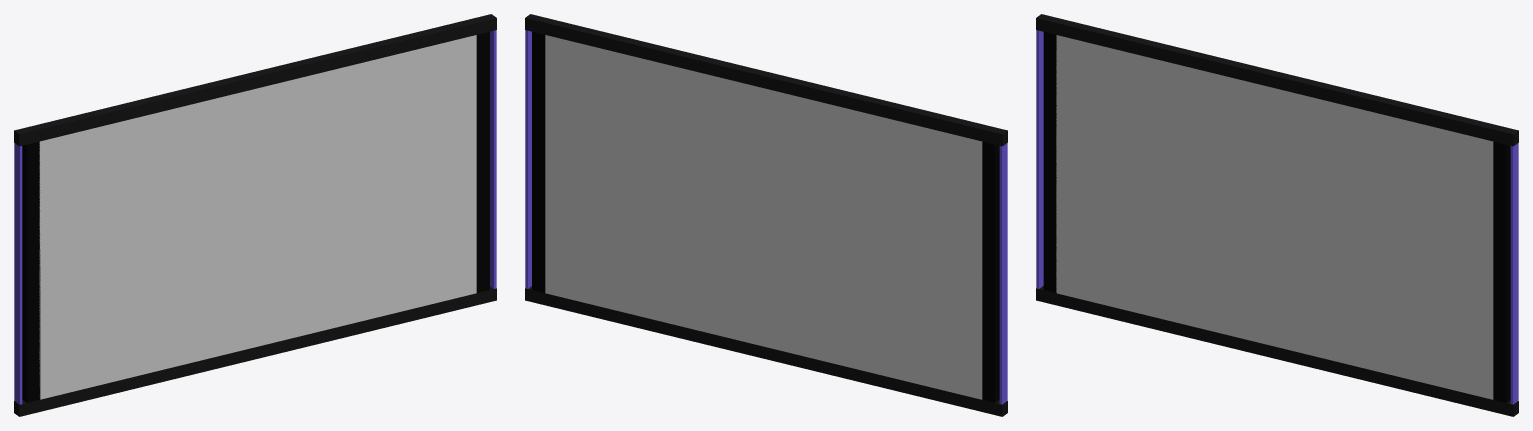
File: screen2.glb
3 views of the same model, side by side, from view 1: azimuth 30°, elevation 25°; view 2: azimuth 150°, elevation 25°; view 3: azimuth 330°, elevation 25° (orthographic).
Visible parts, largest first — view 1: Cube, Cube.003, Cube.004, Cube.002, Cube.001, Cube.006, Cube.005; view 2: Cube, Cube.003, Cube.004, Cube.002, Cube.001, Cube.006, Cube.005; view 3: Cube, Cube.003, Cube.004, Cube.001, Cube.002, Cube.005, Cube.006.
Part boxes in pixels (left/top/right/bottom): Cube: left=39, top=35, right=476, bottom=399; Cube.003: left=14, top=14, right=496, bottom=146; Cube.004: left=14, top=286, right=496, bottom=416; Cube.002: left=22, top=141, right=40, bottom=402; Cube.001: left=476, top=31, right=489, bottom=292; Cube.006: left=14, top=143, right=22, bottom=404; Cube.005: left=490, top=30, right=496, bottom=288; Cube: left=545, top=35, right=982, bottom=399; Cube.003: left=525, top=14, right=1007, bottom=146; Cube.004: left=525, top=286, right=1007, bottom=416; Cube.002: left=982, top=141, right=999, bottom=402; Cube.001: left=532, top=31, right=545, bottom=292; Cube.006: left=999, top=143, right=1007, bottom=404; Cube.005: left=525, top=30, right=531, bottom=288; Cube: left=1056, top=35, right=1493, bottom=399; Cube.003: left=1036, top=14, right=1518, bottom=146; Cube.004: left=1036, top=286, right=1518, bottom=416; Cube.001: left=1493, top=141, right=1510, bottom=402; Cube.002: left=1043, top=32, right=1056, bottom=293; Cube.005: left=1510, top=143, right=1518, bottom=404; Cube.006: left=1036, top=30, right=1043, bottom=288.
Bounding box in the file's own units: 3.87 × 2.19 × 0.0758.
